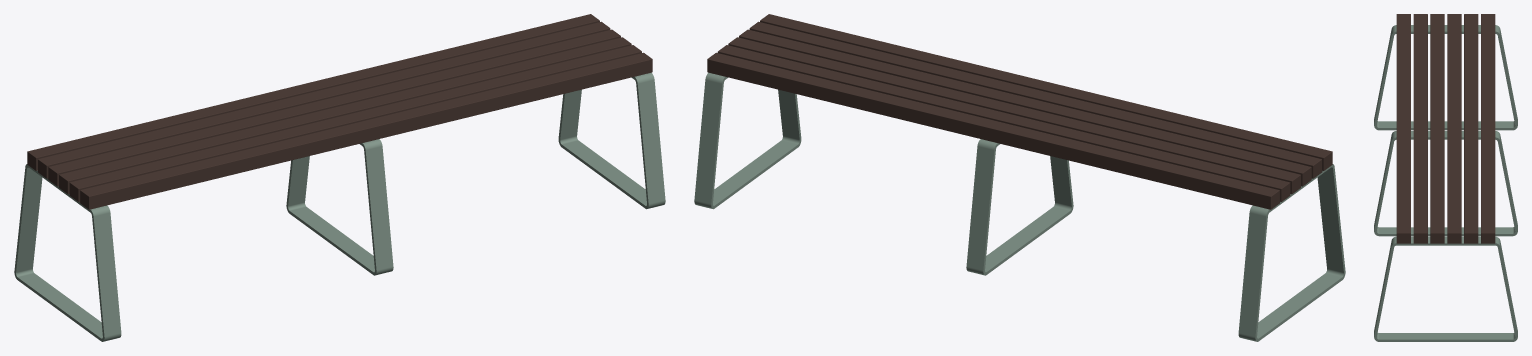
The model's file is G7_std.glb.
The picture shows the model from 3 angles, left to right: view 1: azimuth 30°, elevation 25°; view 2: azimuth 150°, elevation 25°; view 3: azimuth 270°, elevation 25°; orthographic projection. The views are drawn at different scales.
Parts seen in each view (by area): view 1: G7_std; view 2: G7_std; view 3: G7_std.
Boxes of the visible parts, x1,y1,x2,y2 form: G7_std: (14,14,665,341); G7_std: (694,14,1345,341); G7_std: (1374,14,1517,341).
Size of the model in its own units: 2 by 0.4649 by 0.5538.
